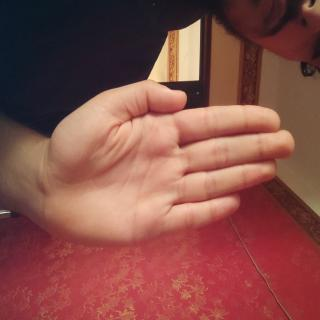SEEN: (56, 29, 187, 320)
